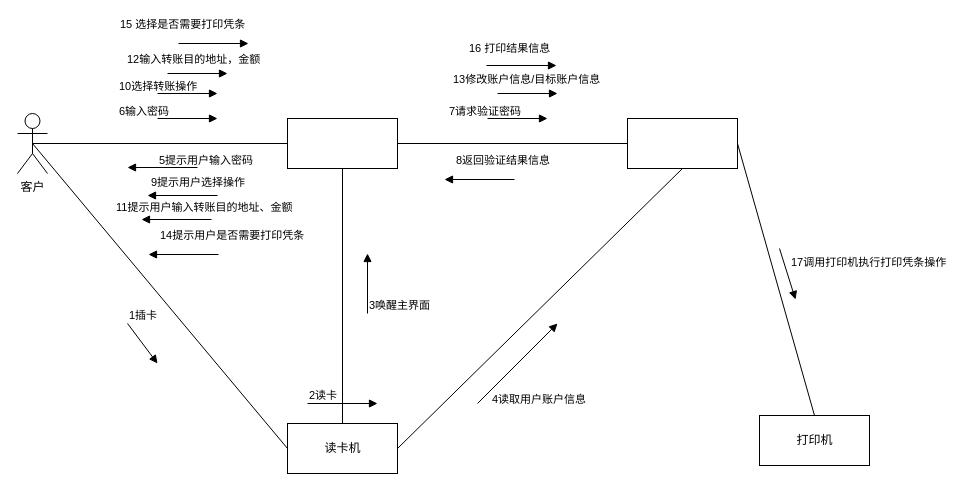
Some shapes in this 964 by 491 pixel diagram are drawn without their labels. Here are the shapes that lost their labels. From the top down, the centre of each, then its label:
(x=342, y=143): ATM界面
(x=682, y=143): 事务处理器
